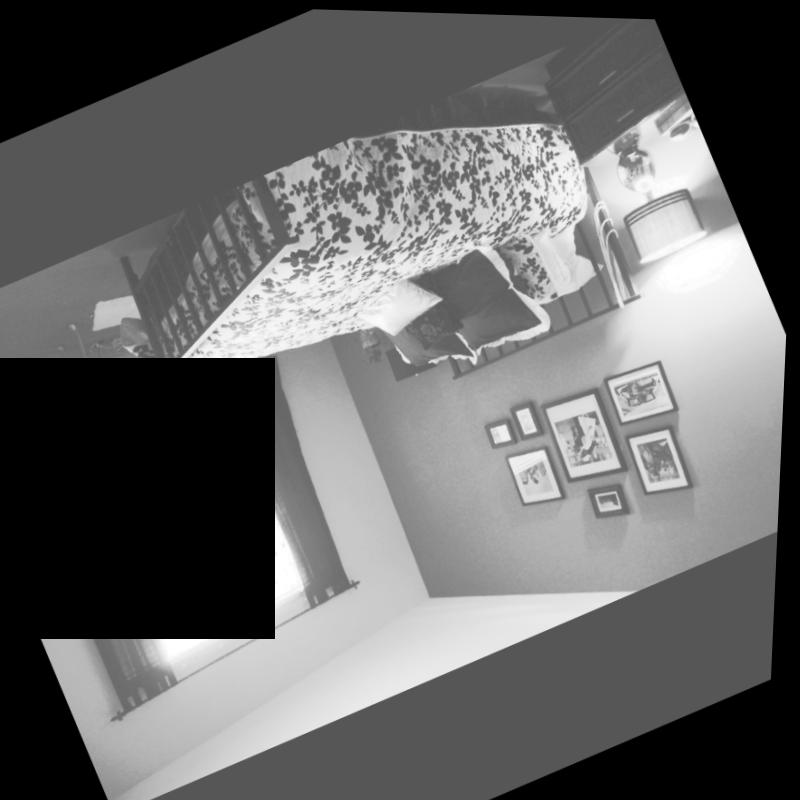pillow: (426, 219, 563, 365), (365, 275, 485, 397), (353, 265, 447, 343), (547, 208, 617, 286), (522, 219, 584, 297), (503, 228, 560, 305)
